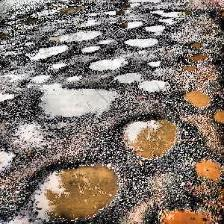pothole: (24, 160, 122, 222), (34, 84, 120, 120), (121, 115, 179, 159), (144, 197, 216, 223), (188, 152, 224, 182), (48, 28, 104, 42), (180, 87, 212, 109), (87, 55, 129, 69), (28, 44, 70, 58), (148, 8, 188, 22), (137, 79, 171, 93), (0, 148, 18, 170), (123, 36, 157, 46), (112, 72, 142, 82), (116, 20, 146, 28), (144, 24, 166, 32), (212, 108, 224, 121), (81, 45, 99, 53), (147, 59, 161, 67)
